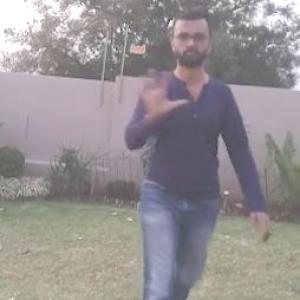follow_hand: (137, 67, 189, 122)
